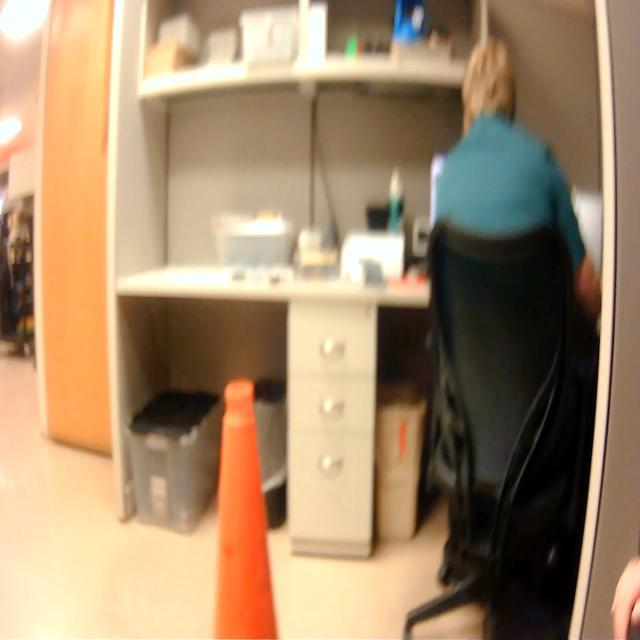traffic cone: (209, 365, 287, 640)
